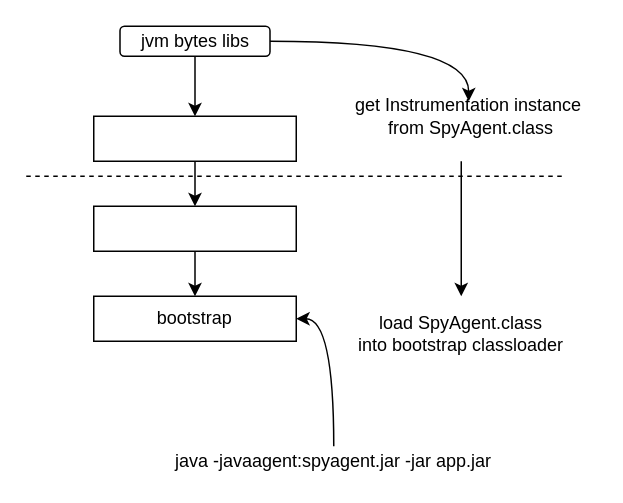
Image size: 623x503. Some labels were removed from this diagram. The centre of each missing label's shape, as x and y in pixels:
app: the point at 194,138
ext: the point at 194,228
